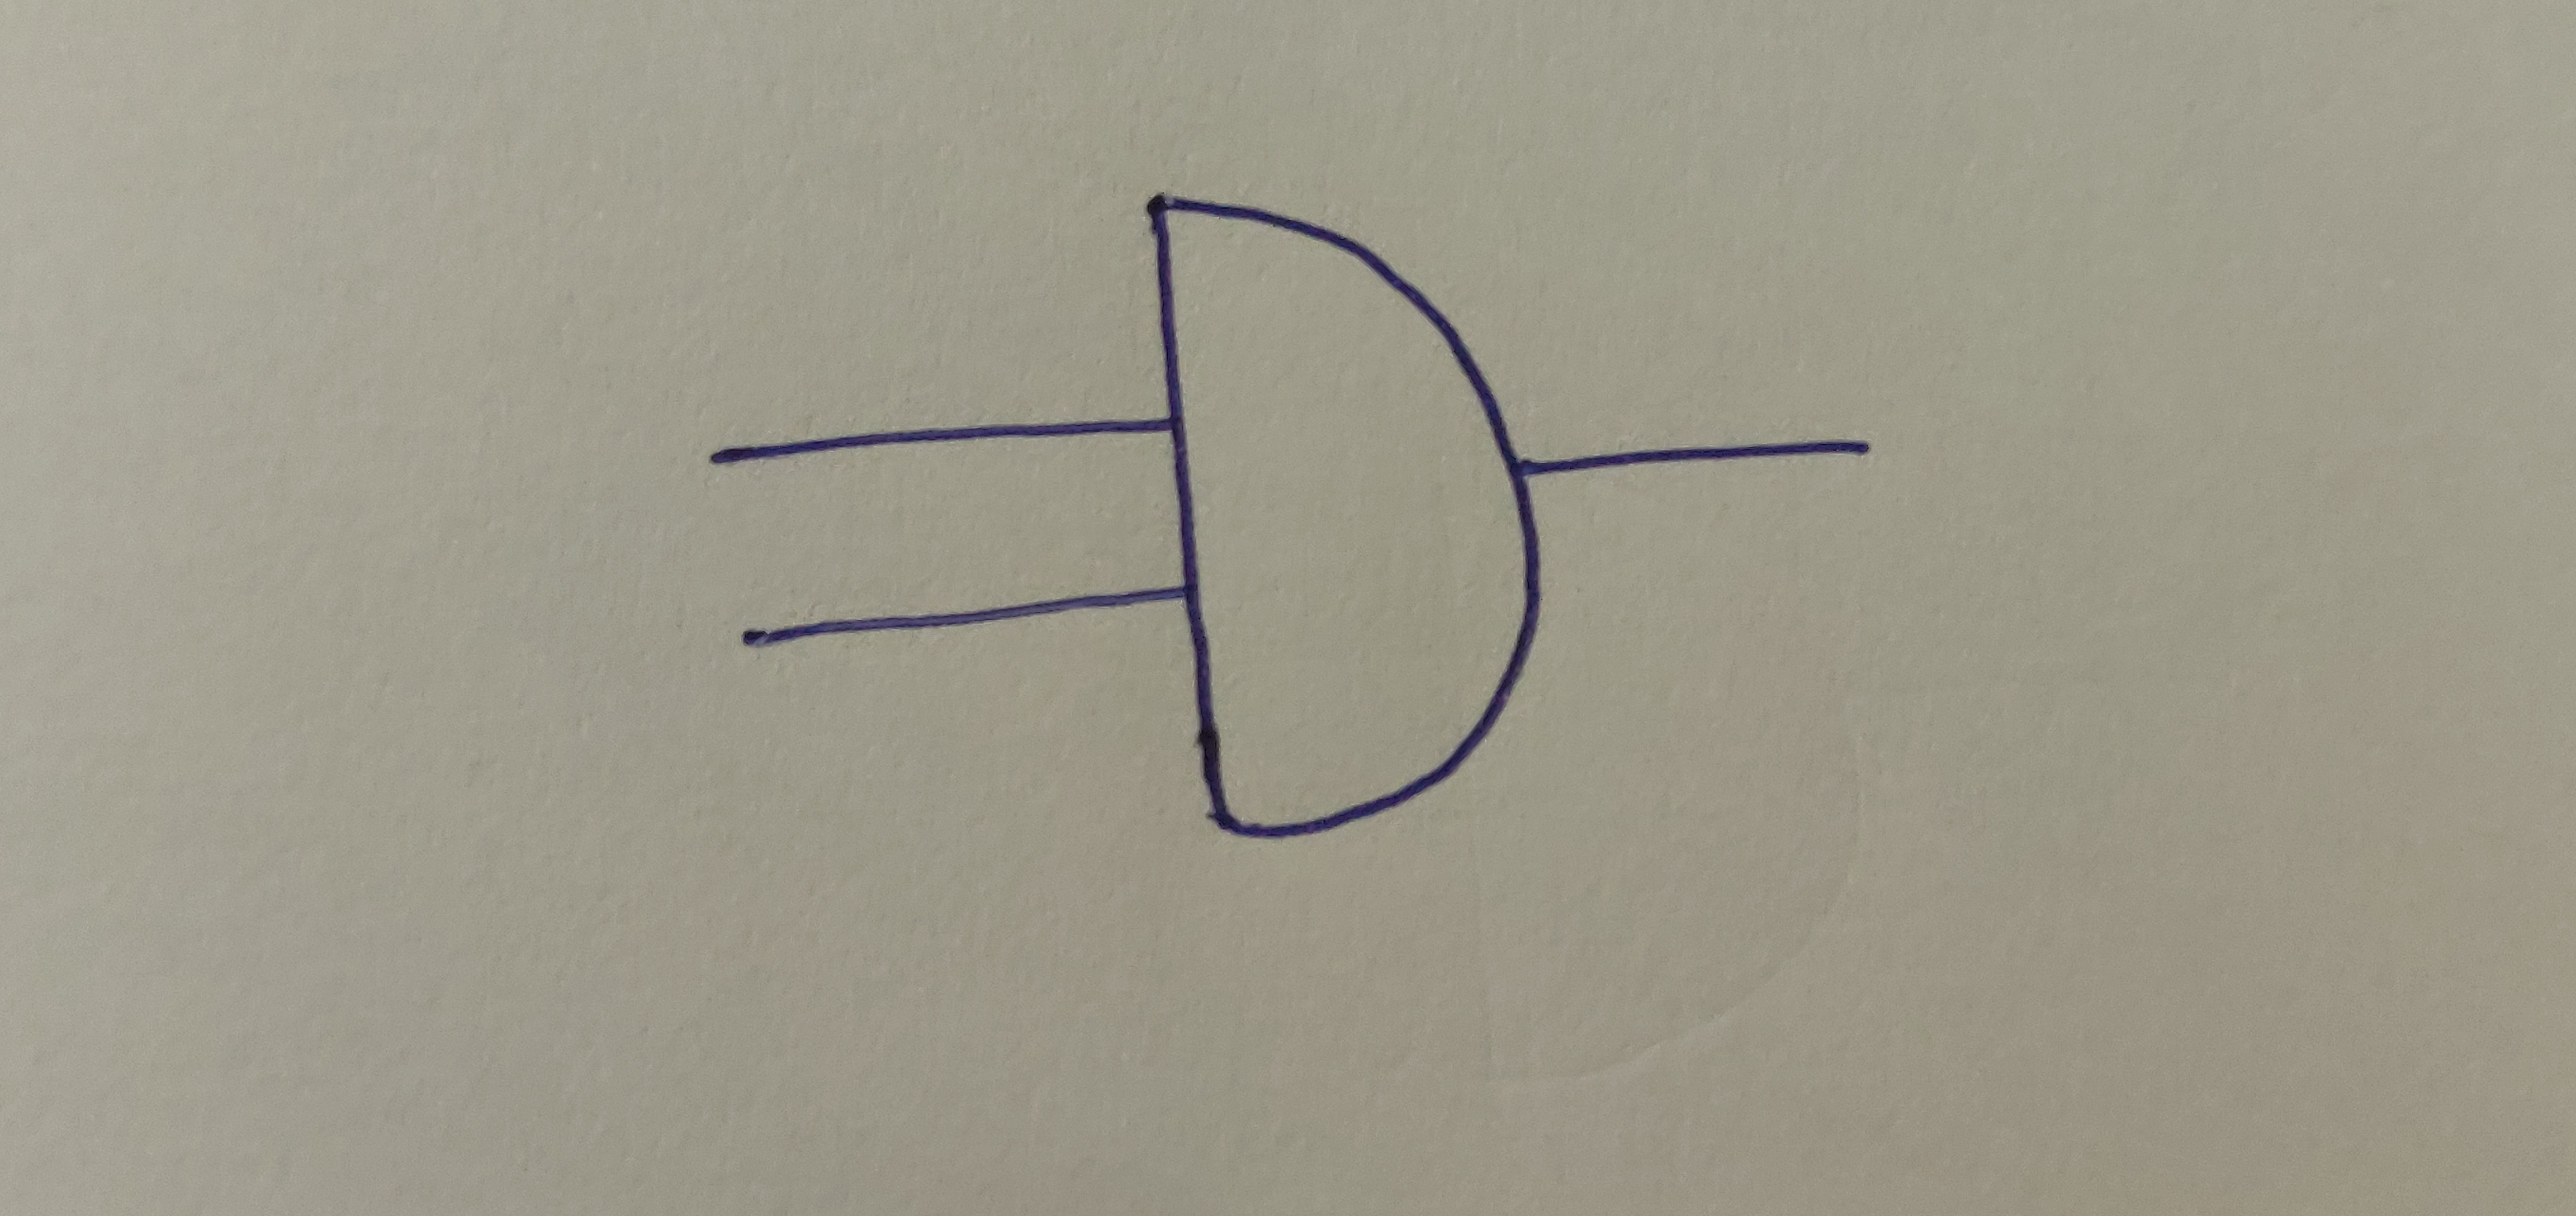and: (1147, 191, 1544, 841)
